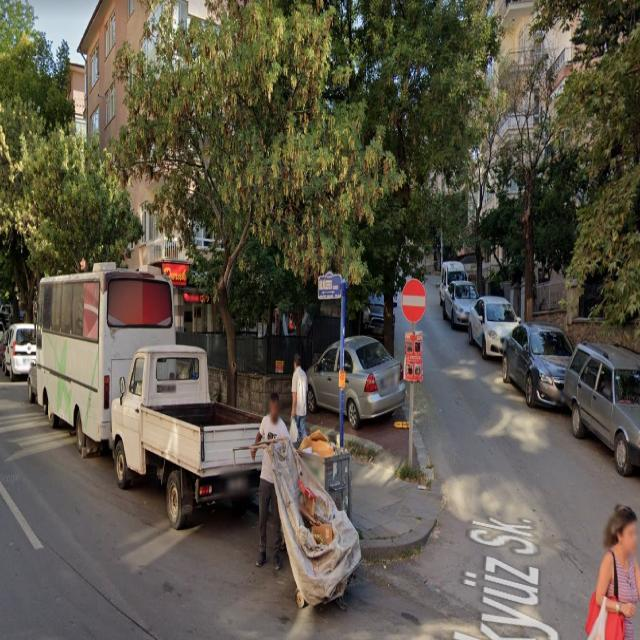girisyok: (402, 279, 426, 323)
